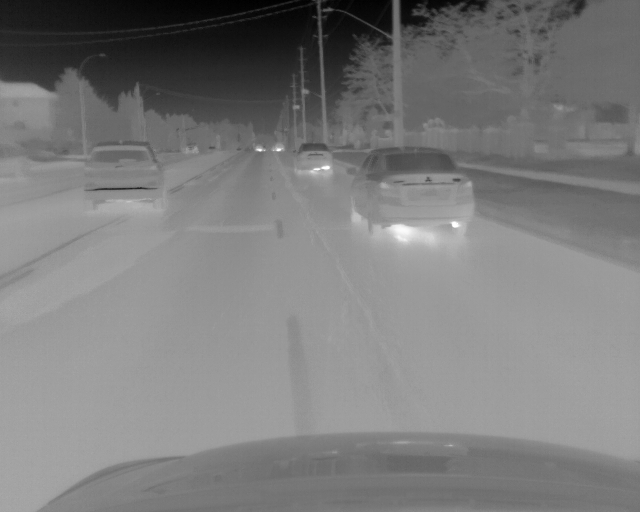car: (345, 148, 471, 241), (83, 140, 166, 214), (289, 144, 331, 176)
